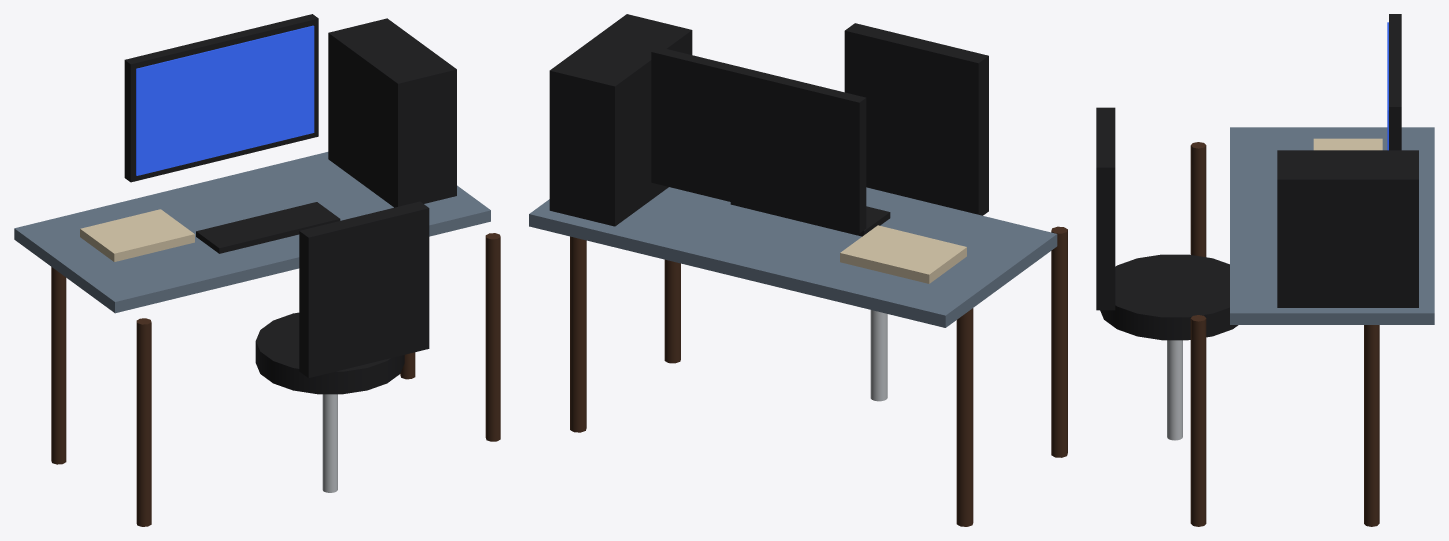
Rendered from computer.glb.
3 renders of one model, left to right at view 1: azimuth 30°, elevation 25°; view 2: azimuth 150°, elevation 25°; view 3: azimuth 270°, elevation 25°, orthographic. The views are drawn at different scales.
Parts seen in each view (by area): view 1: computer; view 2: computer; view 3: computer.
Boxes of the visible parts, bbox=[...] form: computer: bbox=[14, 14, 500, 526]; computer: bbox=[529, 14, 1067, 526]; computer: bbox=[1096, 14, 1434, 526].
Size of the model in its own units: 1.4 by 1.32 by 1.07.
